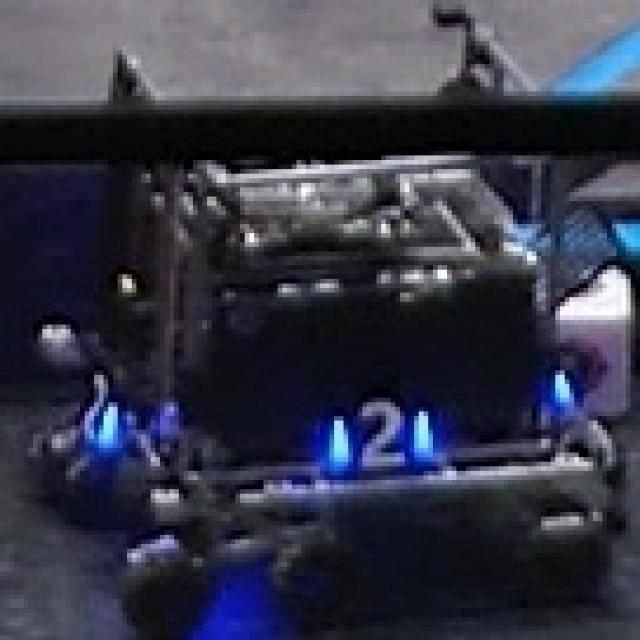B2: (313, 384, 445, 485), (66, 359, 132, 459)
